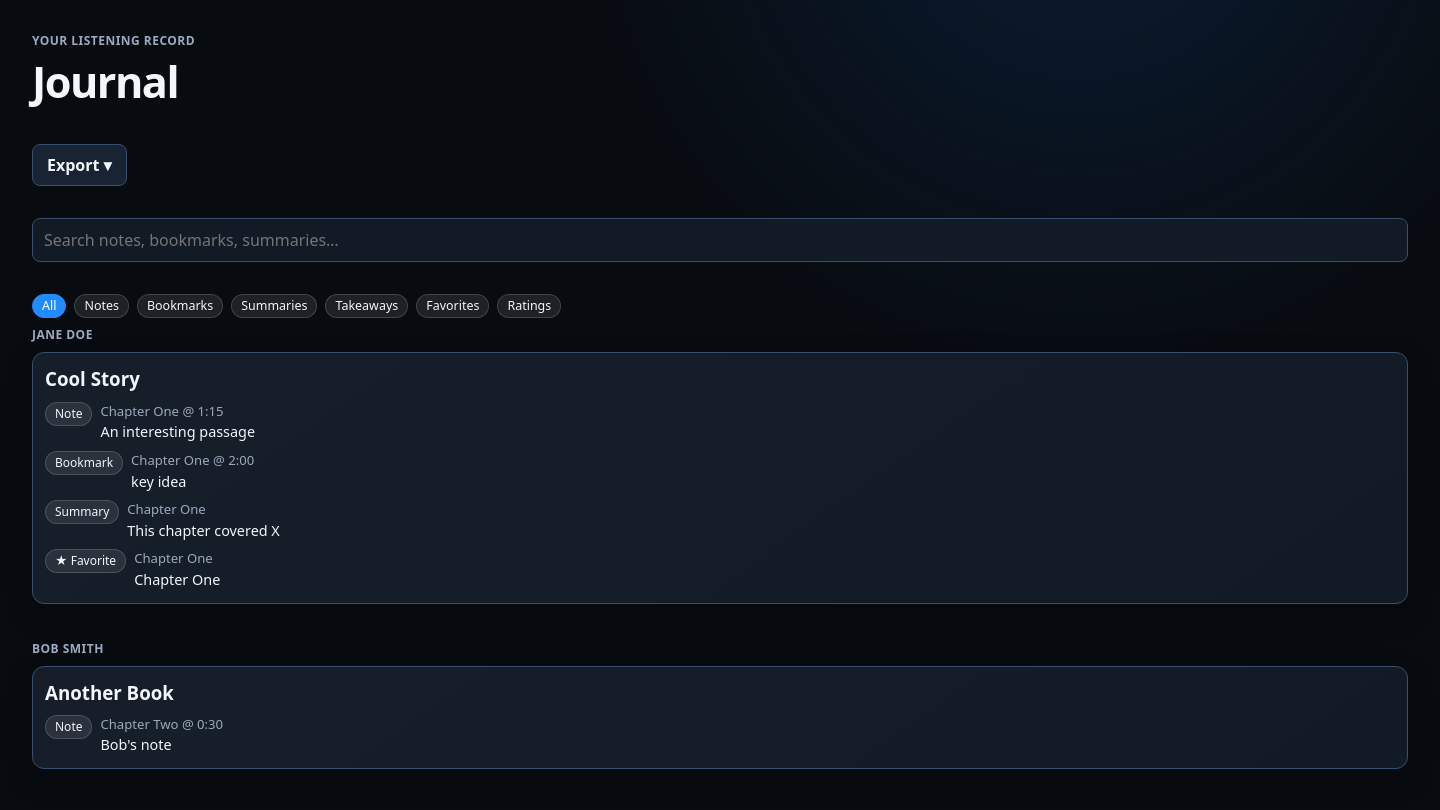
JournalView › Favorites filter shows only favorite entries
Click the tab "Favorites" at point(453, 306), box [416,294,489,318]
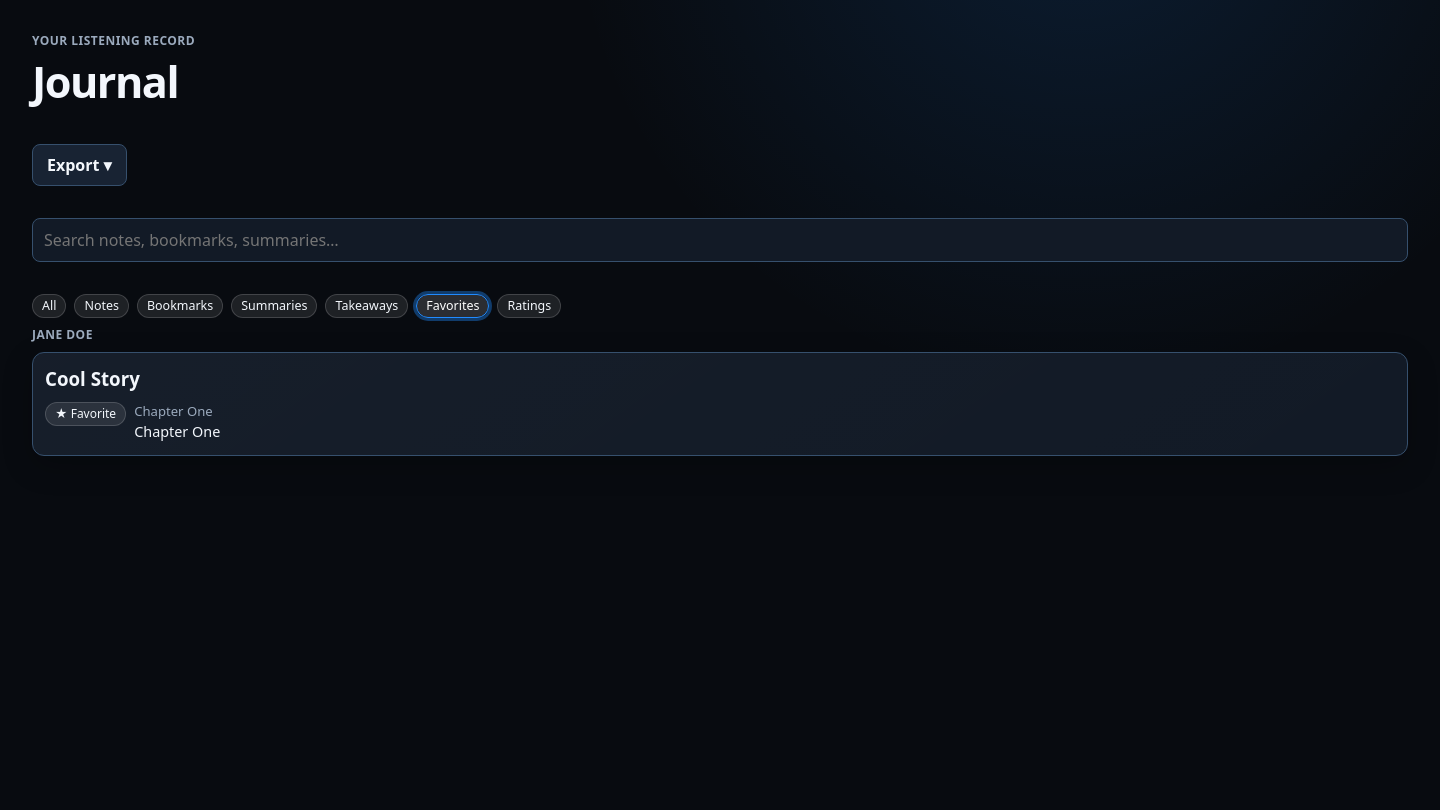
Expected: the number of elements named "Kind: ★ Favorite" is 1, [45,402,126,426]
Expected: the text "An interesting passage" is gone
